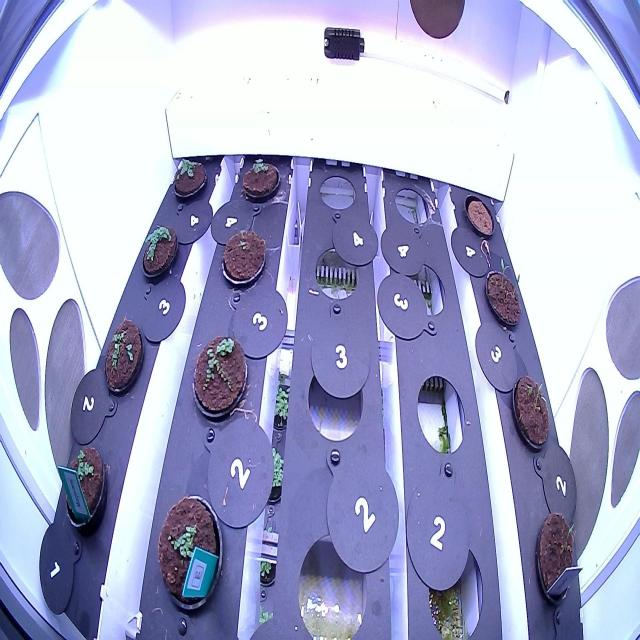empty_pod: (295, 528, 369, 638), (425, 534, 489, 638), (303, 356, 365, 443), (414, 369, 468, 457), (398, 255, 449, 321), (314, 240, 361, 304), (393, 180, 431, 234), (316, 172, 358, 216)
germination: (153, 491, 225, 619), (186, 332, 250, 423), (532, 504, 580, 615), (58, 440, 109, 534), (509, 367, 554, 460), (100, 312, 146, 401), (482, 251, 525, 339), (219, 223, 269, 290), (140, 220, 180, 288), (238, 154, 284, 208), (170, 151, 209, 207)
pod: (461, 190, 500, 245)
